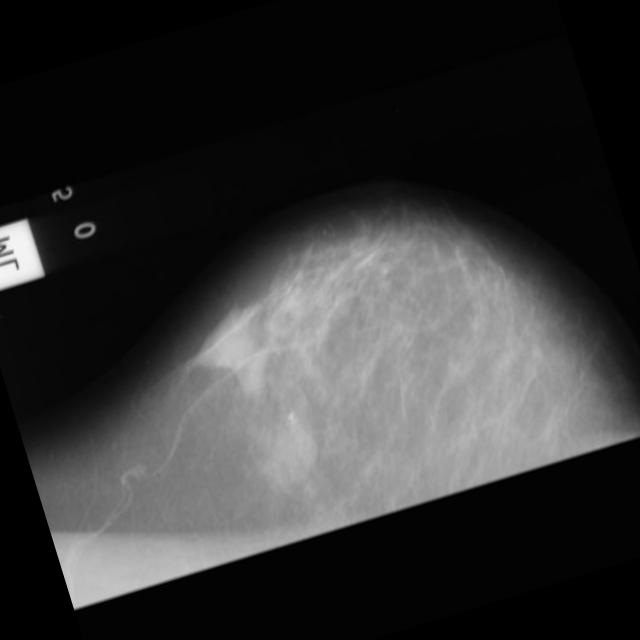CALC: (284, 408, 300, 424)
